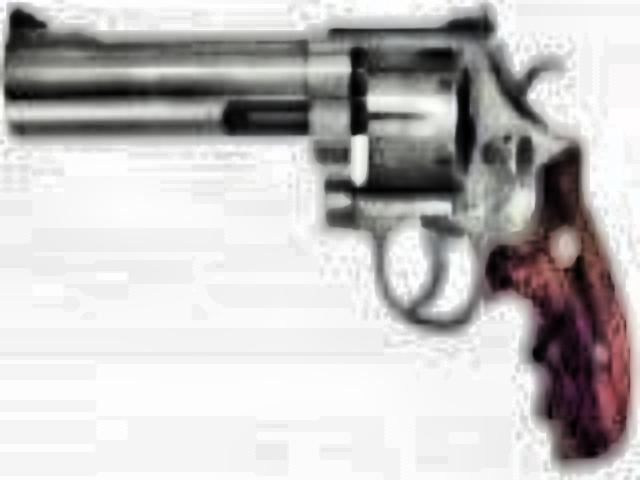pistol: (4, 0, 612, 460)
